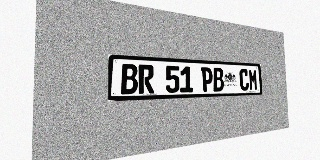1: (180, 66, 193, 93)
5: (166, 66, 180, 93)
B: (121, 64, 138, 94), (213, 68, 224, 92)
C: (239, 69, 249, 91)
M: (248, 69, 258, 90)
P: (201, 67, 213, 92)
R: (138, 64, 154, 94)
